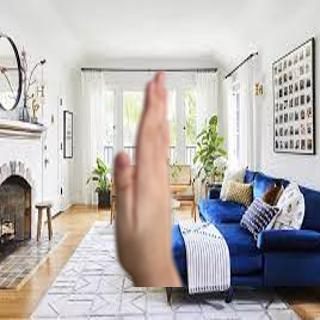Right: (101, 67, 183, 280)
